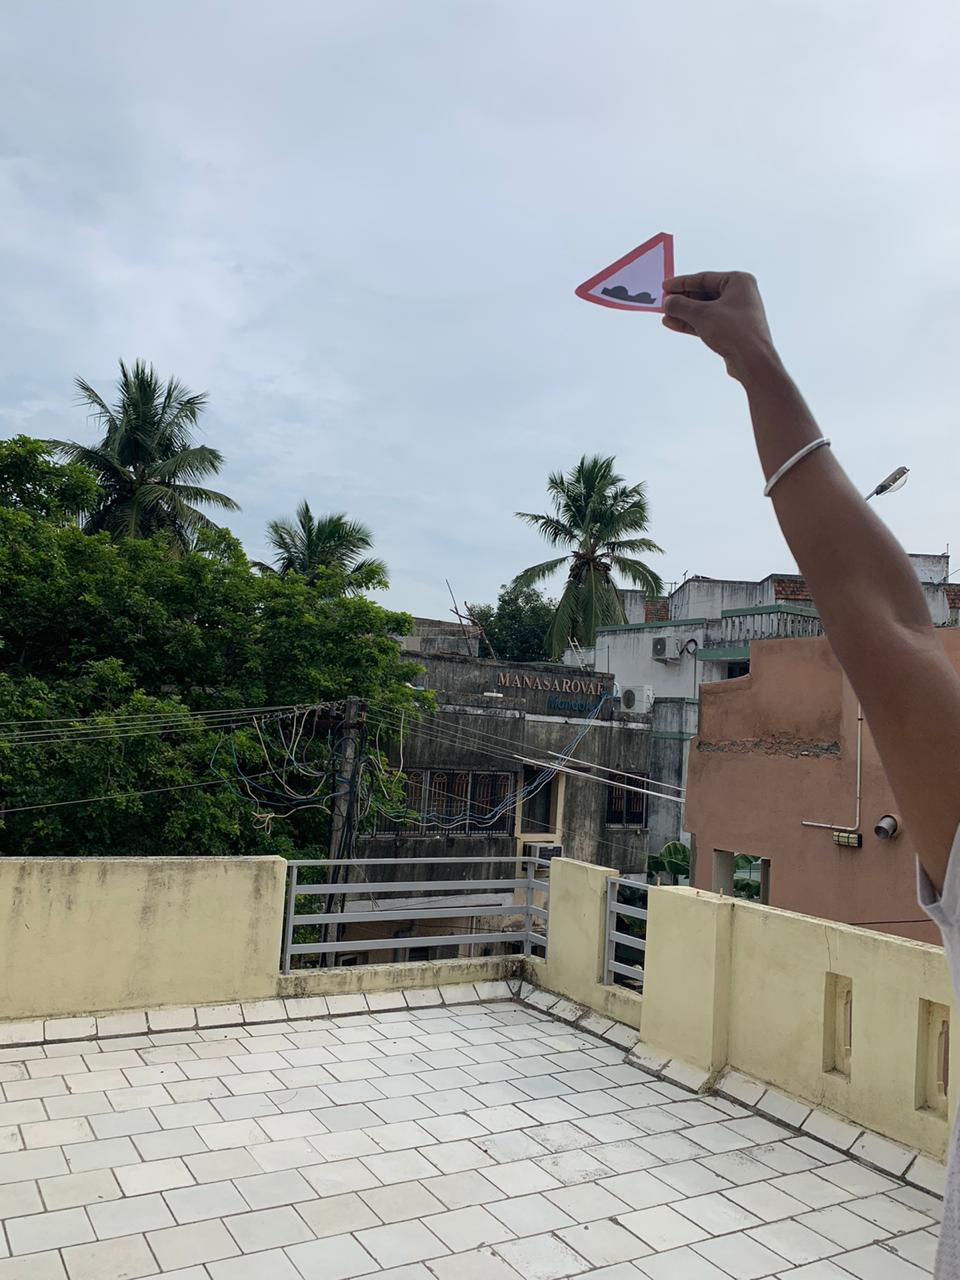UNEVEN ROAD: (560, 200, 699, 348)
